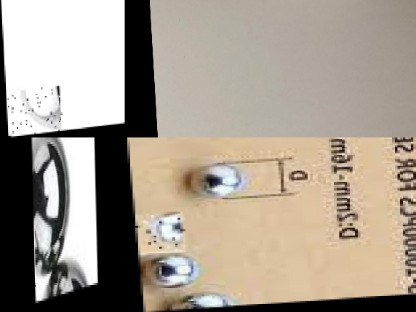ironball: (30, 137, 72, 273), (184, 152, 256, 200), (138, 246, 205, 295), (3, 87, 60, 137), (36, 259, 92, 303), (157, 280, 233, 310), (130, 212, 181, 254), (129, 195, 144, 227), (32, 228, 34, 304)
